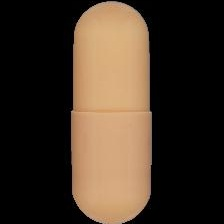55289-186: (0, 0, 224, 224)
